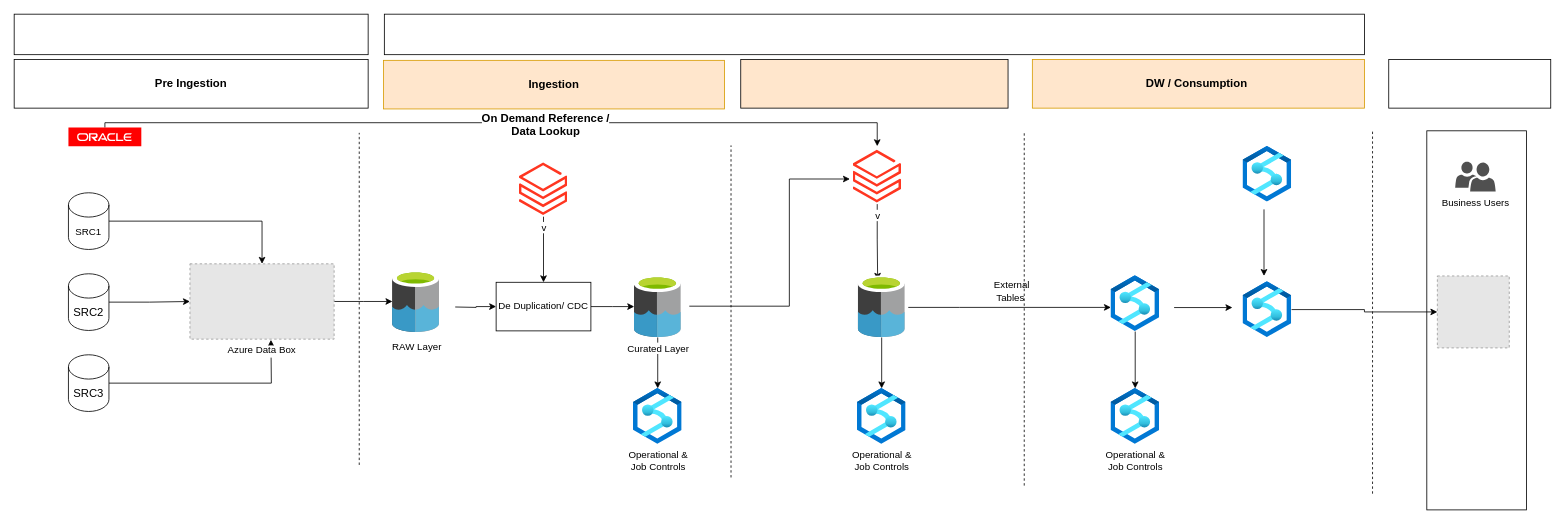
The diagram is 1565 pixels wide and 524 high, and some of its shapes have lost their labels. Grey dashed boxes stand in for pictures. The shapes that lost their labels are listed below. From the top down, each one's centre as x and y in pixels, then its label:
(x=190, y=34): Orchestration : CRON Jobs
(x=874, y=34): Orchestration : Airflow
(x=874, y=83): Integration
(x=1469, y=83): Consumers
(x=104, y=136): ERP Data
(x=881, y=306): Conformed Layer
(x=1135, y=303): Consumption Layer
(x=1267, y=309): Consumption Views
